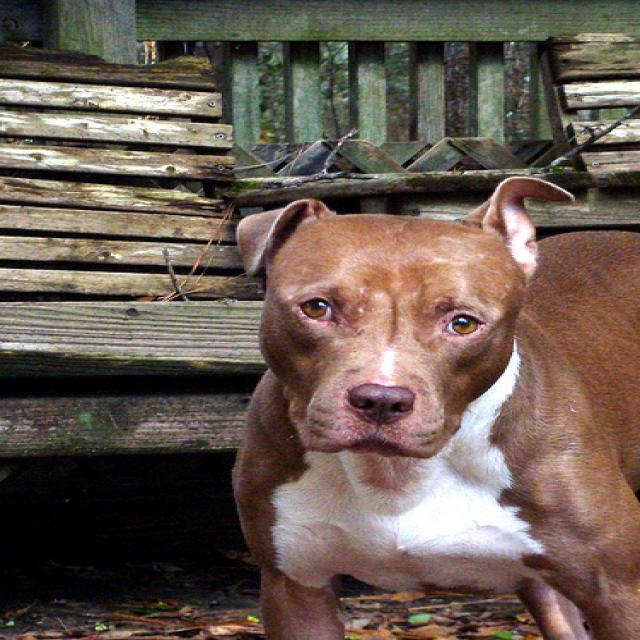dog-american_pit_bull_terrier: (217, 163, 637, 637)
